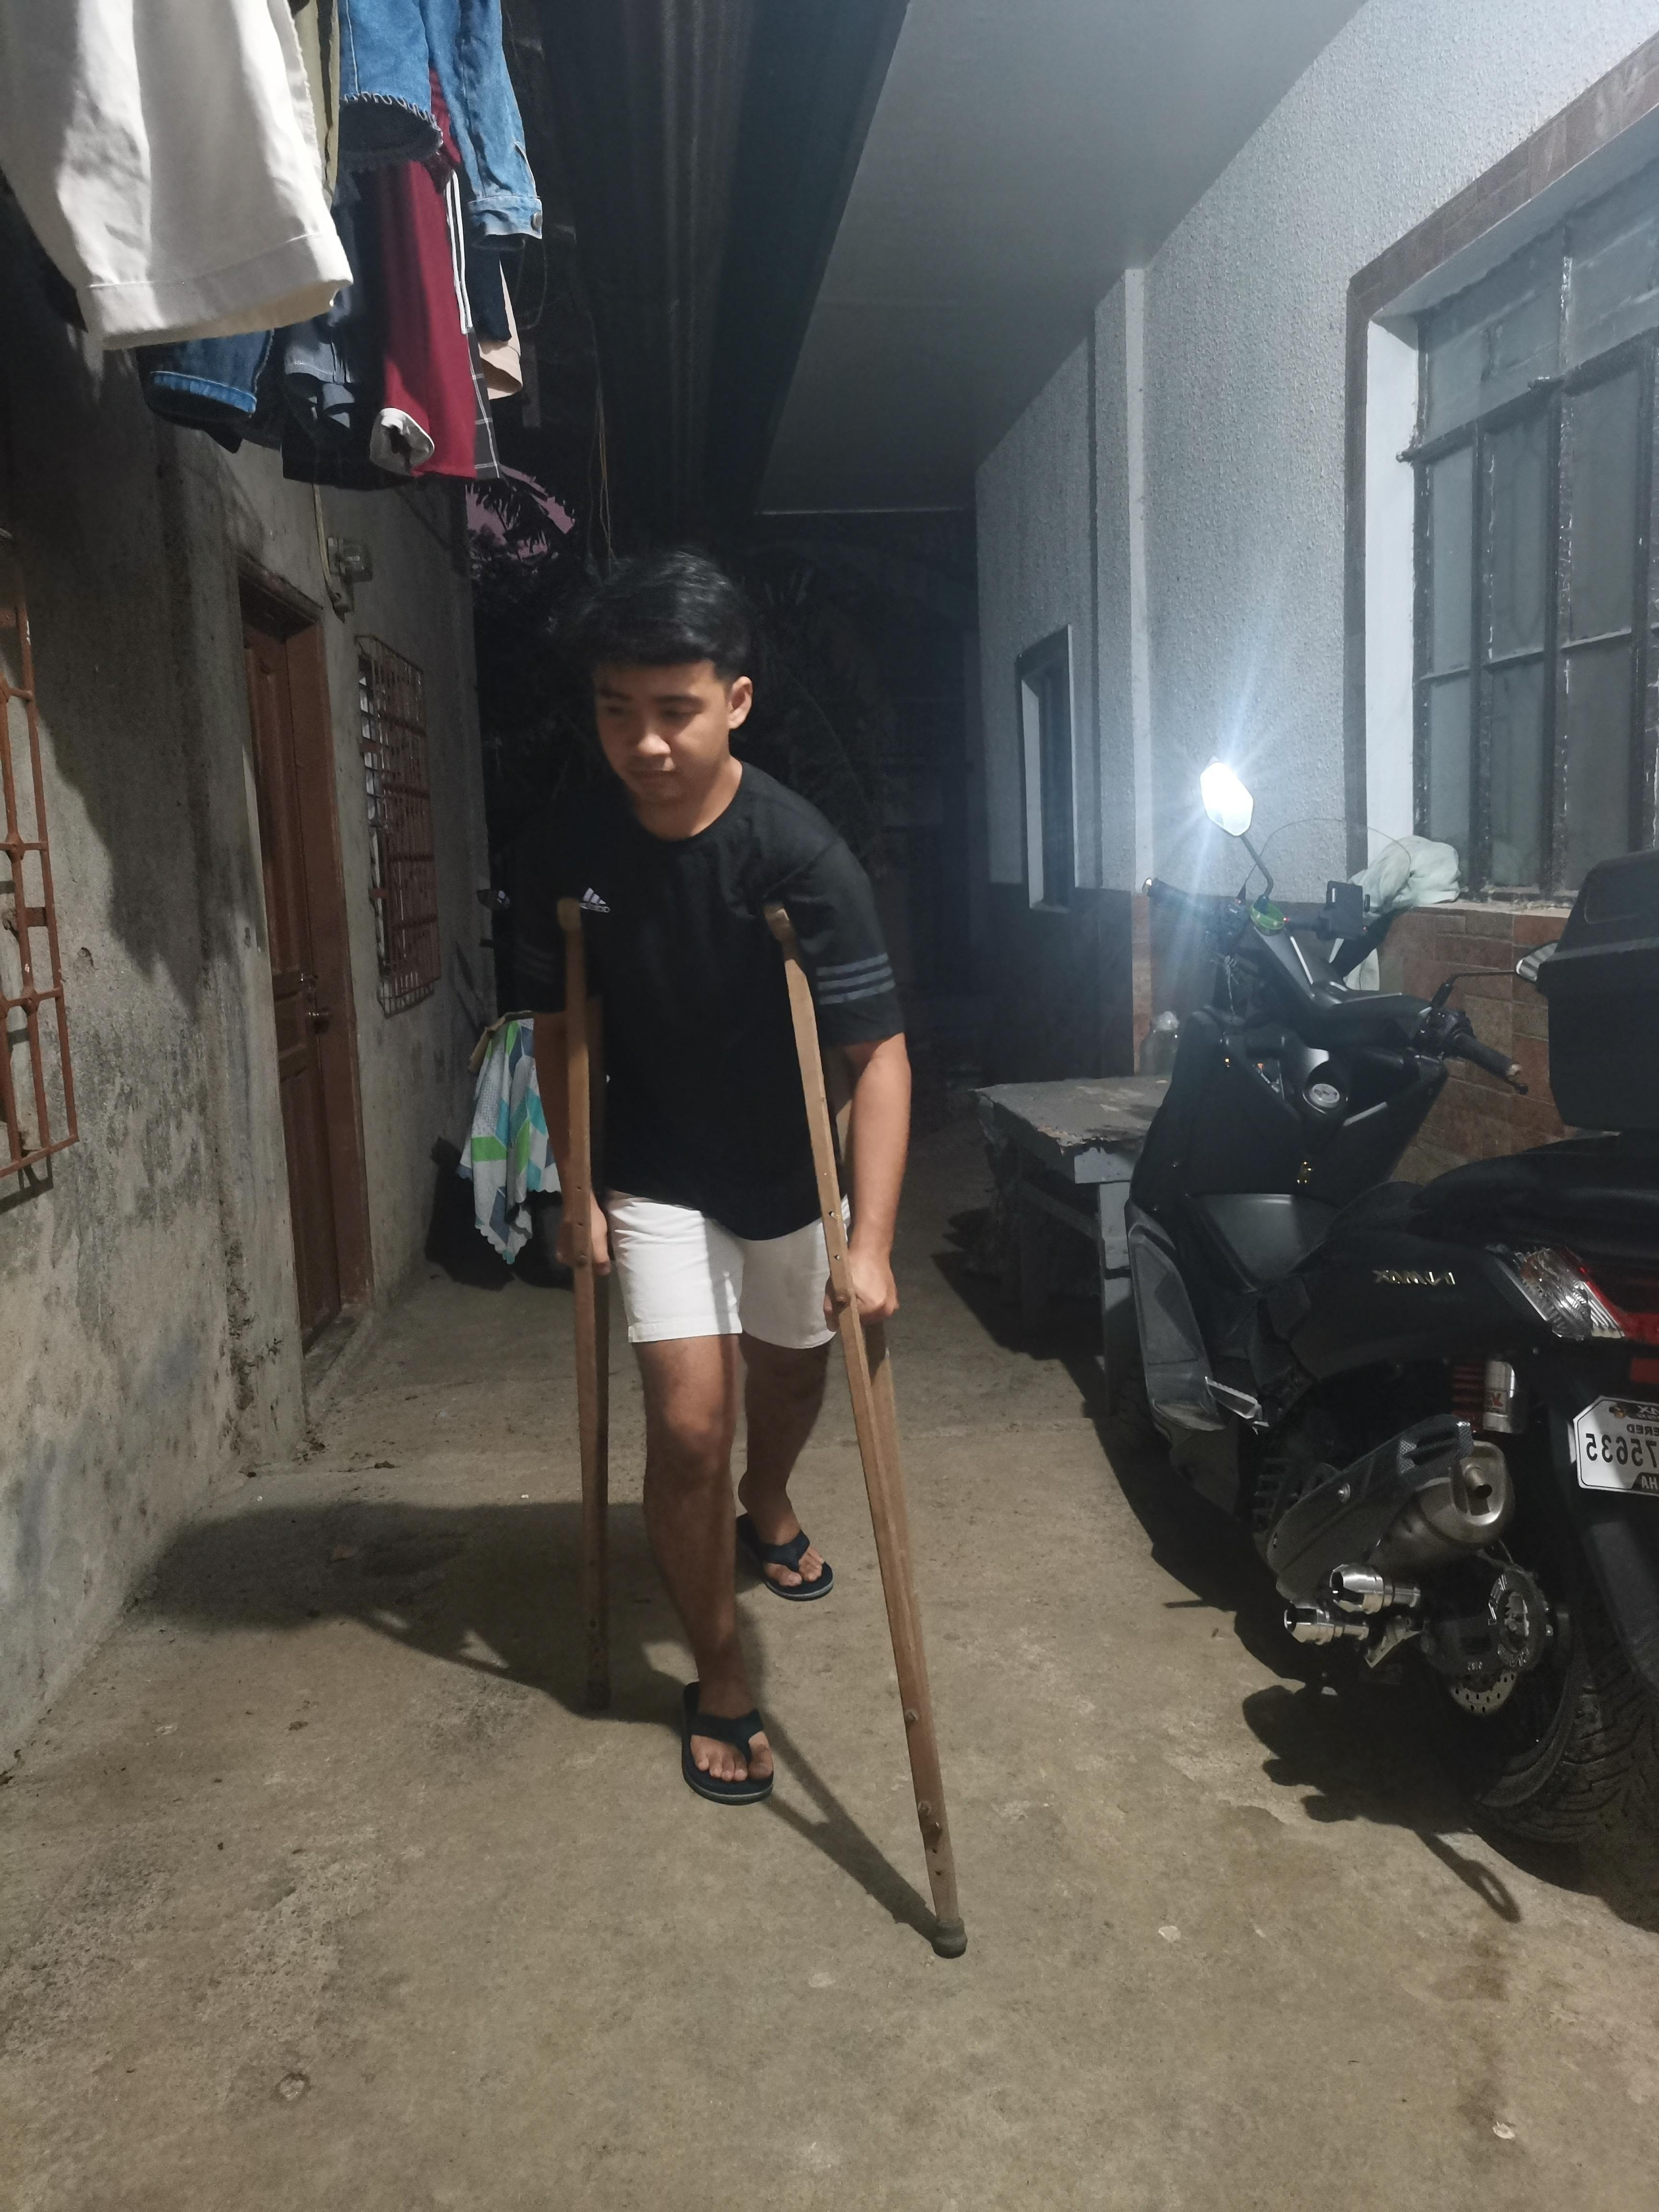crutches: (514, 529, 990, 1982)
